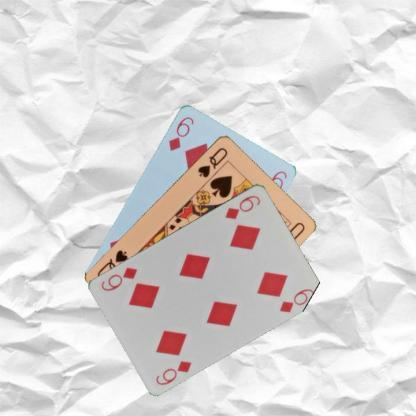6d: (166, 113, 196, 153), (222, 192, 262, 221), (153, 358, 193, 387)
Qs: (195, 144, 229, 178)
